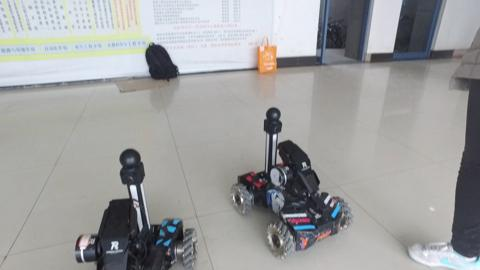chariot: (226, 102, 358, 261), (71, 143, 205, 270)
